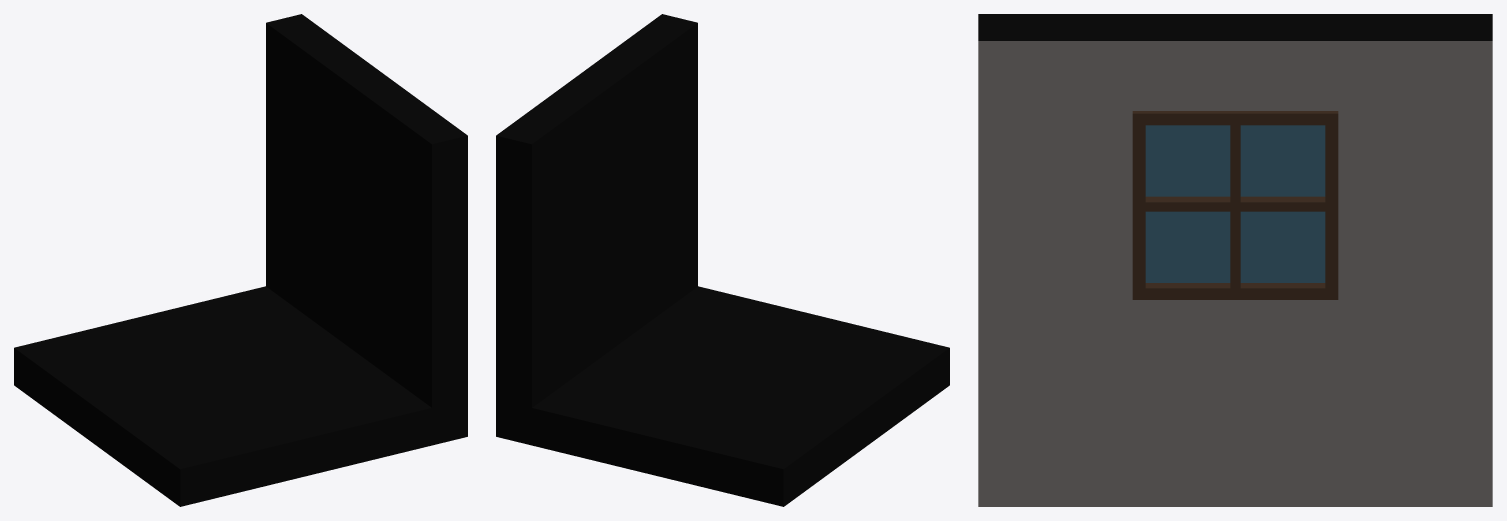
3 renders of one model, left to right at view 1: azimuth 30°, elevation 25°; view 2: azimuth 150°, elevation 25°; view 3: azimuth 270°, elevation 25°, orthographic. The views are drawn at different scales.
Parts seen in each view (by area): view 1: floor_wall.002; view 2: floor_wall.002; view 3: floor_wall.002.
Boxes of the visible parts, x1,y1,x2,y2 form: floor_wall.002: (14, 14, 467, 506); floor_wall.002: (496, 14, 949, 506); floor_wall.002: (978, 14, 1492, 506).
Size of the model in its own units: 202 by 200 by 200.
